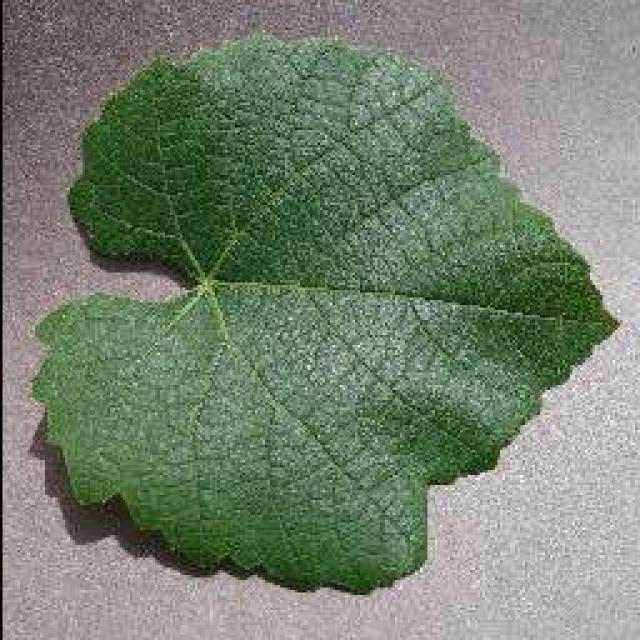Grape___healthy: (32, 35, 615, 590)
